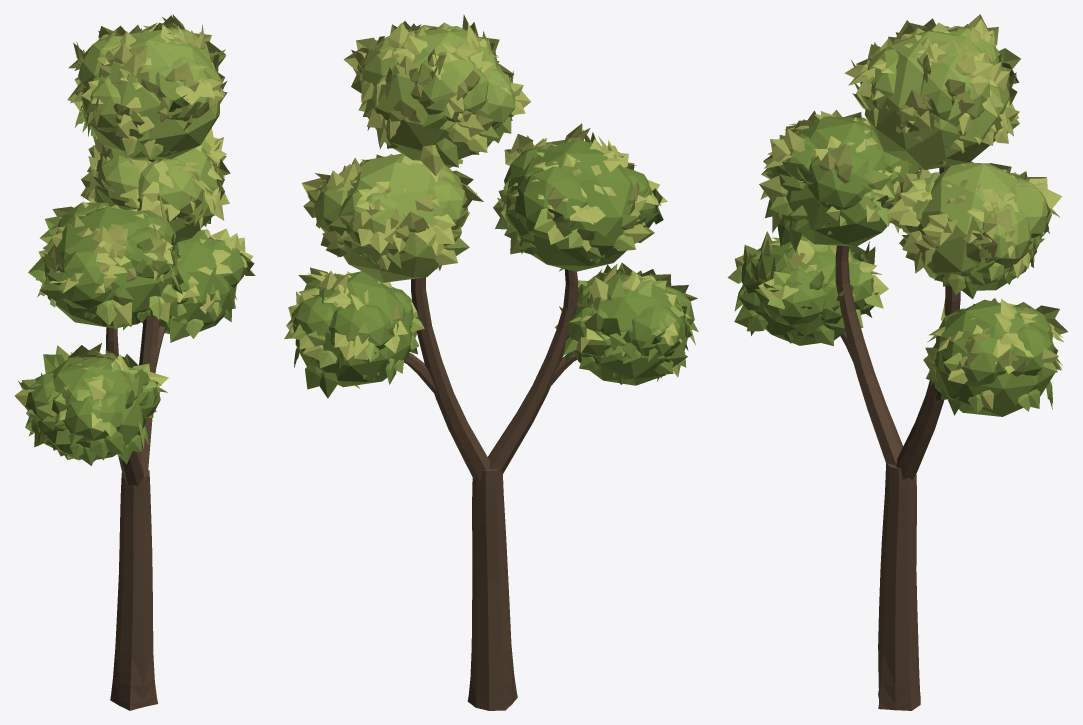
3 renders of one model, left to right at view 1: azimuth 30°, elevation 25°; view 2: azimuth 150°, elevation 25°; view 3: azimuth 270°, elevation 25°, orthographic. The views are drawn at different scales.
Parts seen in each view (by area): view 1: crown, trunk; view 2: crown, trunk; view 3: crown, trunk.
Part boxes in pixels (left/top/right/bottom): crown: left=14, top=14, right=255, bottom=465; trunk: left=106, top=159, right=165, bottom=710; crown: left=284, top=14, right=698, bottom=398; trunk: left=404, top=269, right=578, bottom=710; crown: left=727, top=14, right=1067, bottom=416; trunk: left=835, top=166, right=960, bottom=710.
Bounding box in the file's own units: 3.02 × 6.35 × 2.83.
